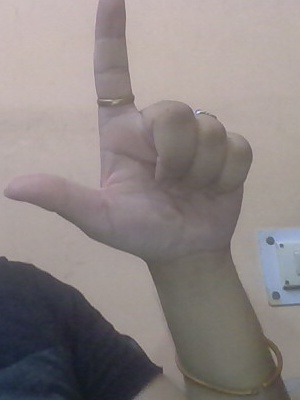L: (5, 3, 239, 252)
